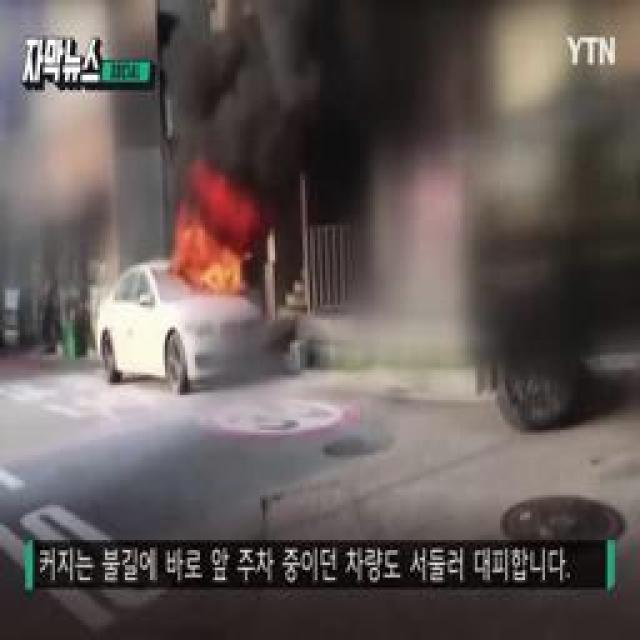Fire: (171, 187, 255, 294)
